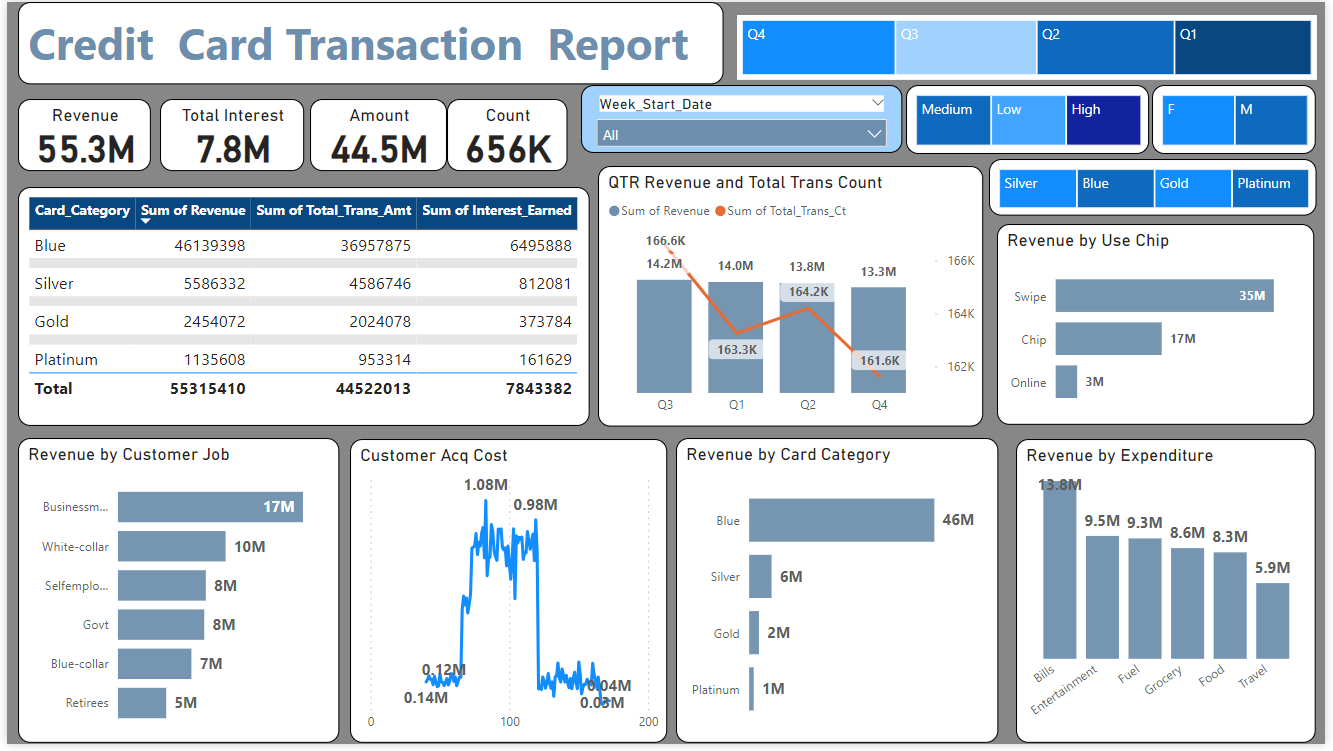

The dashboard page shown, as its layout file describes it:
{"tool":"powerbi","page":{"name":"Credit Card Transaction","canvas":[1280,720],"ordinal":1},"visuals":[{"type":"textbox","box":[10.6,0,684.7,80.3],"z":0},{"type":"card","title":" Revenue","fields":{"Values":["Sum(cc_detail.Revenue)"]},"box":[10.9,94.1,129.1,70],"z":1000},{"type":"columnChart","title":"Revenue by Expenditure ","fields":{"Category":["cc_detail.Exp_Type"],"Y":["Sum(cc_detail.Revenue)"]},"box":[980.1,424.1,290.8,295.4],"z":2000},{"type":"slicer","title":"Sum of Revenue by Education Level","fields":{"Values":["cc_detail.Week_Start_Date"]},"box":[557.4,80.8,312.5,66.4],"z":3000},{"type":"barChart","title":"Revenue by Customer Job ","fields":{"Y":["Sum(cc_detail.Revenue)"],"Category":["cust_detail.Customer_Job"]},"box":[10.7,423.5,311.7,296.2],"z":4000},{"type":"barChart","title":"Revenue by Card Category","fields":{"Y":["Sum(cc_detail.Revenue)"],"Category":["cc_detail.Card_Category"]},"box":[649.5,423.5,312.9,296.2],"z":5000},{"type":"barChart","title":"Revenue by Use Chip","fields":{"Y":["Sum(cc_detail.Revenue)"],"Category":["cc_detail.Use_Chip"]},"box":[961.5,215.9,307.6,195.4],"z":6000},{"type":"tableEx","fields":{"Values":["cc_detail.Card_Category","Sum(cc_detail.Revenue)","Sum(cc_detail.Total_Trans_Amt)","Sum(cc_detail.Interest_Earned)"]},"box":[10.9,179.8,554.9,231.6],"z":7000},{"type":"card","title":"Amount","fields":{"Values":["Sum(cc_detail.Total_Trans_Amt)"]},"box":[294.4,94.1,132.7,70],"z":8000},{"type":"card","title":"Total  Interest","fields":{"Values":["Sum(cc_detail.Interest_Earned)"]},"box":[148.4,94.1,139.9,70],"z":9000},{"type":"card","title":"Count","fields":{"Values":["Sum(cc_detail.Total_Trans_Ct)"]},"box":[427.2,93.9,116.6,69.7],"z":10000},{"type":"lineStackedColumnComboChart","title":"QTR Revenue and Total Trans Count","fields":{"Category":["cc_detail.Qtr"],"Y":["Sum(cc_detail.Revenue)"],"Y2":["Sum(cc_detail.Total_Trans_Ct)"]},"box":[574.3,159.2,374,253.3],"z":11000},{"type":"treemap","fields":{"Group":["cc_detail.Qtr"],"Values":["Avg(cc_detail.Client_Num)"]},"box":[709,13.1,562.7,63],"z":12000},{"type":"treemap","fields":{"Values":["Avg(cc_detail.Client_Num)"],"Group":["cust_detail.Gender"]},"box":[1111.9,80.3,159.1,66.7],"z":13000},{"type":"treemap","fields":{"Values":["Avg(cc_detail.Client_Num)"],"Group":["cc_detail.Card_Category"]},"box":[953.1,152,318.5,55.5],"z":14000},{"type":"treemap","fields":{"Values":["Avg(cc_detail.Client_Num)"],"Group":["cust_detail.IncomeGroup"]},"box":[872.5,80.3,236.3,66.7],"z":15000},{"type":"lineChart","title":"Customer Acq Cost","fields":{"Category":["cc_detail.Customer_Acq_Cost"],"Y":["Sum(cc_detail.Revenue)"]},"box":[333.3,424.1,307.5,295.4],"z":16000}]}

Visuals, with their boxes in screenshot pixels (x1, y1, x2, y2), scaled from the page's 1280x720 canvas onto the 1333x751 screenshot:
textbox: 11:0:724:84
" Revenue" card: 11:98:146:171
"Revenue by Expenditure " columnChart: 1021:442:1324:750
"Sum of Revenue by Education Level" slicer: 580:84:906:154
"Revenue by Customer Job " barChart: 11:442:336:750
"Revenue by Card Category" barChart: 676:442:1002:750
"Revenue by Use Chip" barChart: 1001:225:1322:429
tableEx - cc_detail.Card_Category x Sum(cc_detail.Revenue): 11:188:589:429
"Amount" card: 307:98:445:171
"Total  Interest" card: 155:98:300:171
"Count" card: 445:98:566:171
"QTR Revenue and Total Trans Count" lineStackedColumnComboChart: 598:166:988:430
treemap - cc_detail.Qtr x Avg(cc_detail.Client_Num): 738:14:1324:79
treemap - Avg(cc_detail.Client_Num) x cust_detail.Gender: 1158:84:1324:153
treemap - Avg(cc_detail.Client_Num) x cc_detail.Card_Category: 993:159:1324:216
treemap - Avg(cc_detail.Client_Num) x cust_detail.IncomeGroup: 909:84:1155:153
"Customer Acq Cost" lineChart: 347:442:667:750
